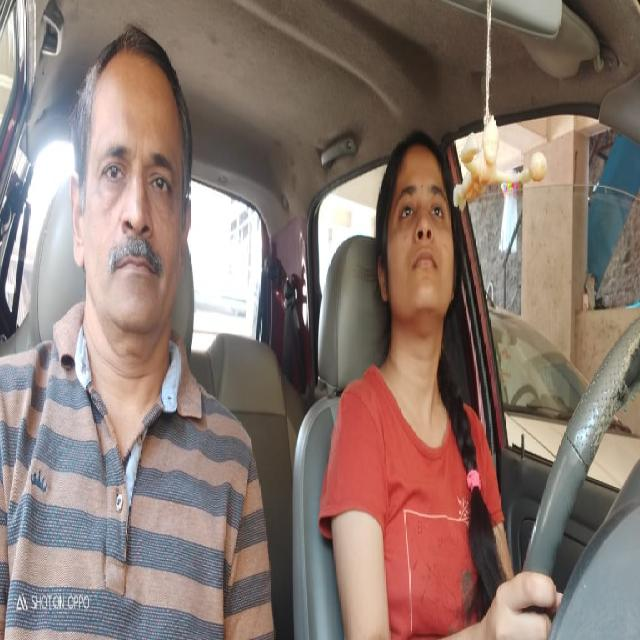person: (68, 36, 195, 338), (374, 127, 457, 370)
